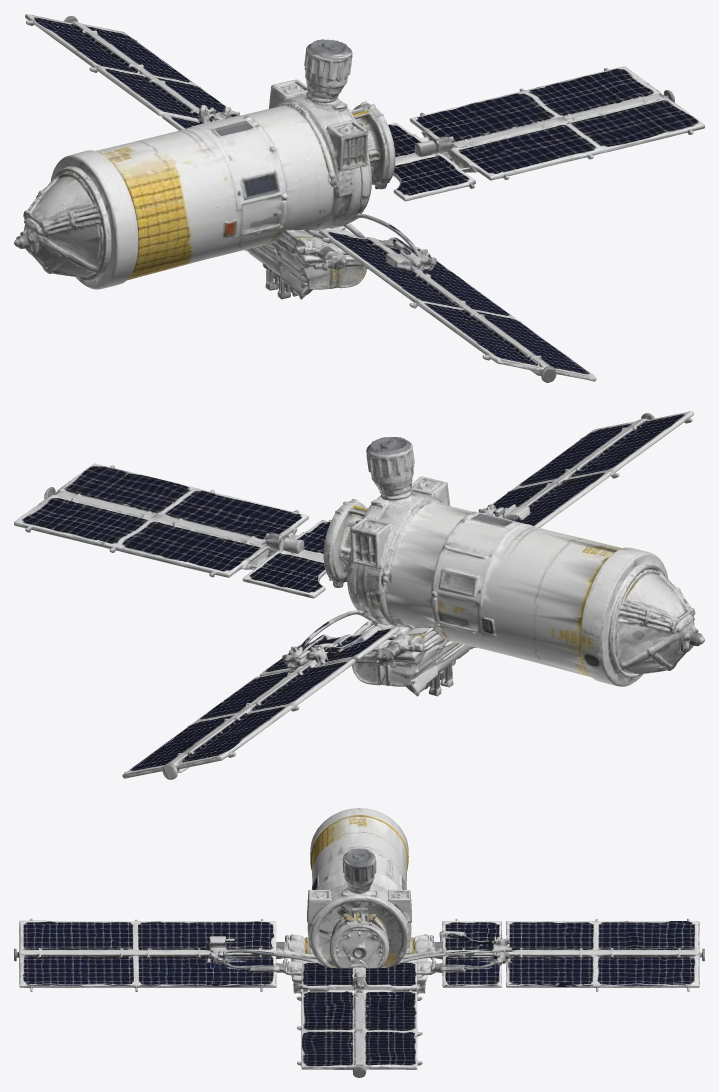
The model's file is gateway.glb.
3 views of the same model, one above another, from view 1: azimuth 30°, elevation 25°; view 2: azimuth 150°, elevation 25°; view 3: azimuth 270°, elevation 25° (orthographic). The views are drawn at different scales.
Visible parts, largest first — view 1: gateway; view 2: gateway; view 3: gateway.
Boxes of the visible parts, x1=… form: gateway: x1=14, y1=14, x2=704, y2=382; gateway: x1=14, y1=411, x2=704, y2=779; gateway: x1=14, y1=808, x2=704, y2=1077.
Bounding box in the file's own units: 40 × 13.72 × 50.66.
Materials: 1 (1 with a texture image).
